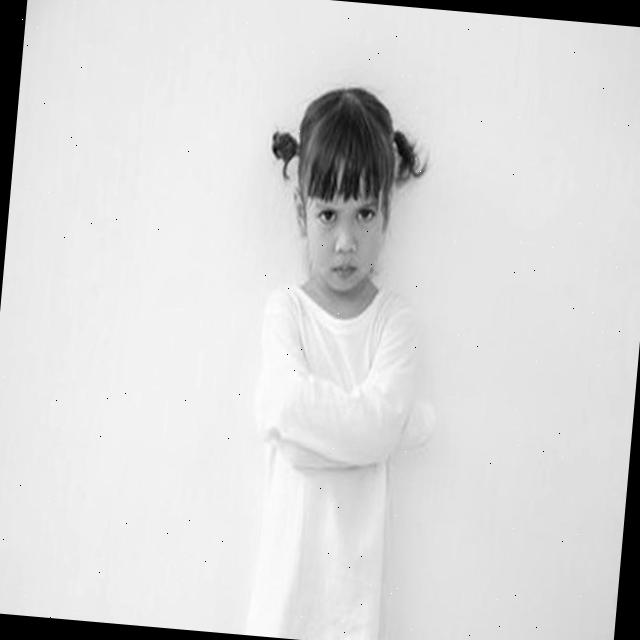Angry: (299, 163, 389, 294)
